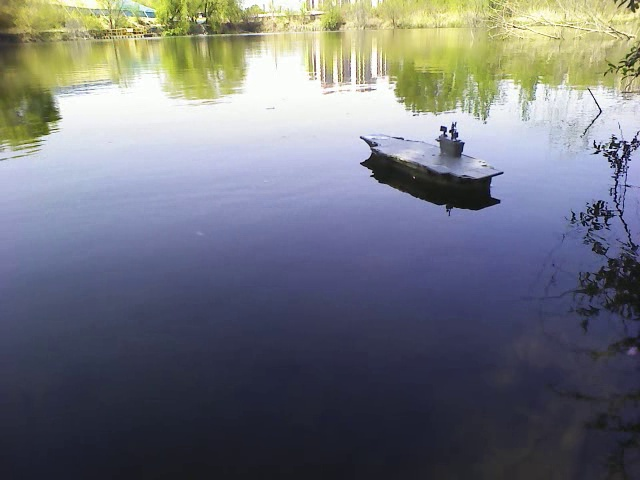aircraft_carrier: (360, 121, 506, 192)
